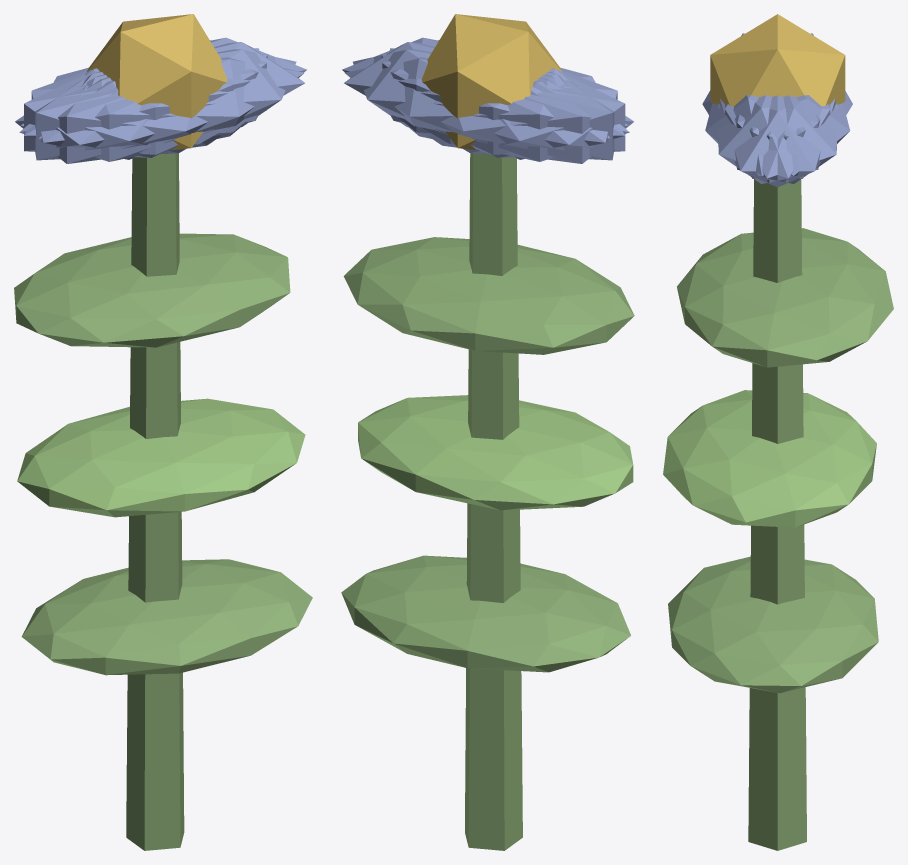
File: euphorbia-lactea.glb
The picture shows the model from 3 angles, left to right: view 1: azimuth 30°, elevation 25°; view 2: azimuth 150°, elevation 25°; view 3: azimuth 270°, elevation 25°; orthographic projection.
Parts seen in each view (by area): view 1: stem, leaf1, leaf0, leaf2, center, petal1, petal6, petal2, petal5, petal7, petal0, petal4 (+2 smaller); view 2: stem, leaf2, leaf0, leaf1, center, petal8, petal3, petal7, petal4, petal2, petal0, petal5 (+2 smaller); view 3: stem, leaf2, leaf0, leaf1, center, petal0, petal5, petal4, petal1, petal8.
Boxes of the visible parts, x1=… form: stem: x1=126, y1=153, x2=184, y2=850; leaf1: x1=17, y1=398, x2=305, y2=517; leaf0: x1=21, y1=559, x2=312, y2=675; leaf2: x1=14, y1=233, x2=290, y2=347; center: x1=87, y1=14, x2=227, y2=150; petal1: x1=19, y1=57, x2=304, y2=161; petal6: x1=15, y1=70, x2=220, y2=163; petal2: x1=35, y1=48, x2=259, y2=160; petal5: x1=38, y1=49, x2=296, y2=154; petal7: x1=24, y1=54, x2=267, y2=157; petal0: x1=86, y1=42, x2=304, y2=144; petal4: x1=20, y1=37, x2=306, y2=136; stem: x1=465, y1=153, x2=522, y2=850; leaf2: x1=343, y1=237, x2=634, y2=354; leaf0: x1=341, y1=555, x2=630, y2=672; leaf1: x1=358, y1=395, x2=633, y2=510; center: x1=421, y1=14, x2=561, y2=150; petal8: x1=344, y1=57, x2=629, y2=161; petal3: x1=428, y1=70, x2=633, y2=163; petal7: x1=389, y1=48, x2=614, y2=160; petal4: x1=353, y1=49, x2=610, y2=154; petal2: x1=381, y1=54, x2=625, y2=157; petal0: x1=344, y1=42, x2=562, y2=144; petal5: x1=342, y1=37, x2=628, y2=135; stem: x1=748, y1=179, x2=806, y2=850; leaf2: x1=677, y1=228, x2=893, y2=367; leaf0: x1=668, y1=556, x2=878, y2=693; leaf1: x1=663, y1=390, x2=876, y2=527; center: x1=710, y1=14, x2=845, y2=106; petal0: x1=719, y1=95, x2=835, y2=187; petal5: x1=718, y1=95, x2=830, y2=183; petal4: x1=725, y1=95, x2=837, y2=183; petal1: x1=705, y1=95, x2=820, y2=175; petal8: x1=735, y1=95, x2=850, y2=175.
Size of the model in its own units: 0.1452 by 0.4035 by 0.1048.
